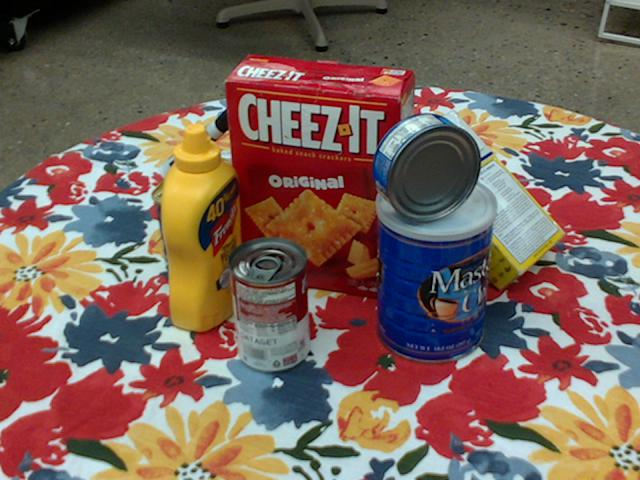cracker_box: (227, 55, 418, 296)
gelatin_box: (209, 146, 294, 218)
large_marker: (159, 104, 244, 179)
master_chef_can: (375, 173, 496, 366)
mug: (362, 131, 448, 231)
mustard_bottle: (160, 124, 244, 333)
potted_meat_can: (150, 154, 235, 272)
sugar_box: (387, 111, 569, 293)
tomato_soup_can: (226, 237, 309, 373)
tuna_fish_can: (374, 112, 482, 222)
